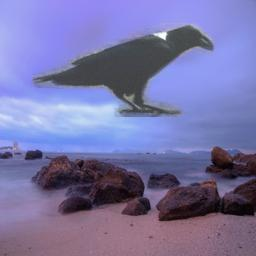Crow: (30, 23, 214, 117)
